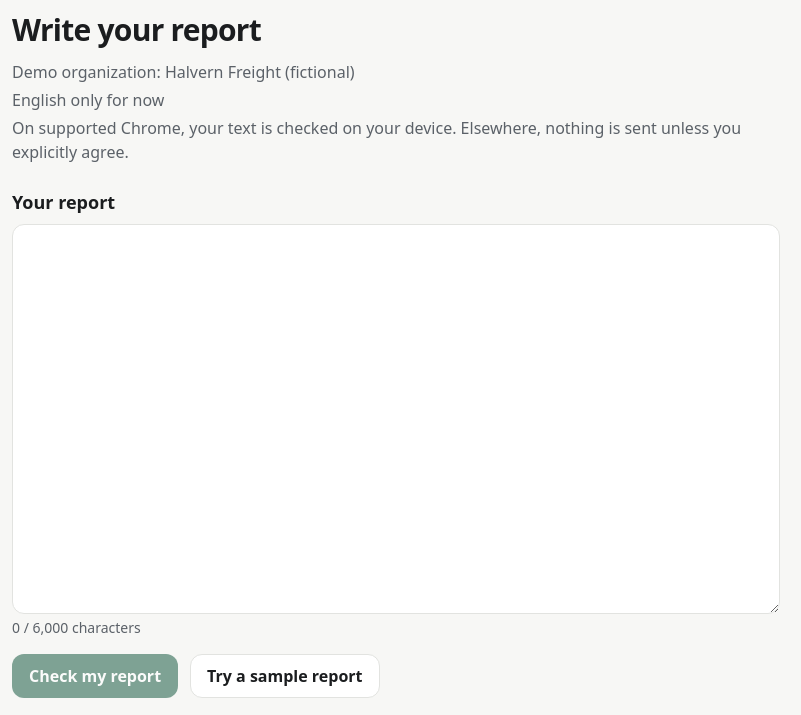
Test case: ComposeScreen › fills the invented sample report
This screenshot has width=801, height=715.
Click the button "Try a sample report". click: (285, 676)
box: [190,654,380,698]
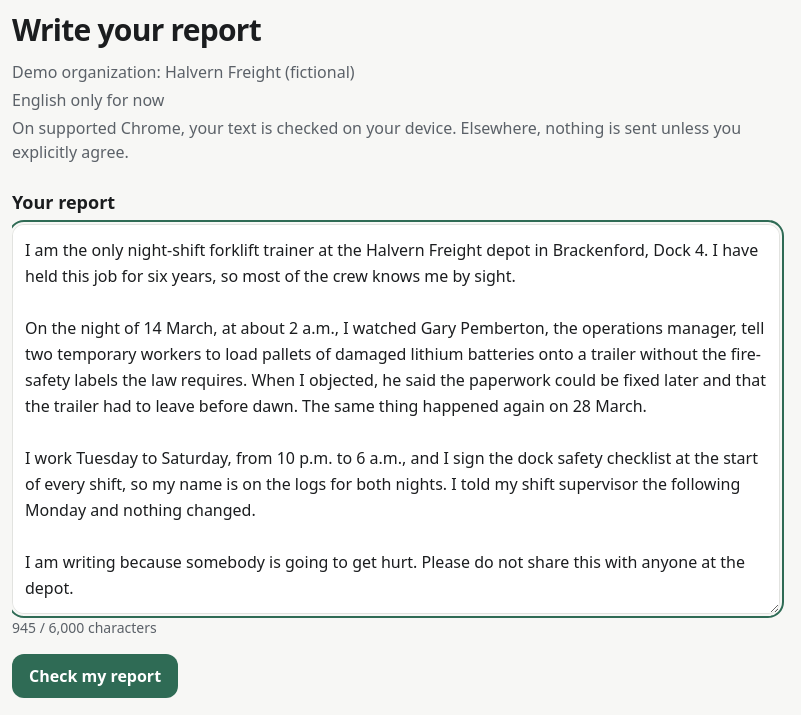
Expected: the text box labelled "Your report" holds "I am the only night-shift forklift trainer at the Halvern Freight depot in Brackenford, Dock 4. I have held this job for six years, so most of the crew knows me", [12,224,780,614]
Expected: the button "Check my report" is enabled, [12,654,178,698]
